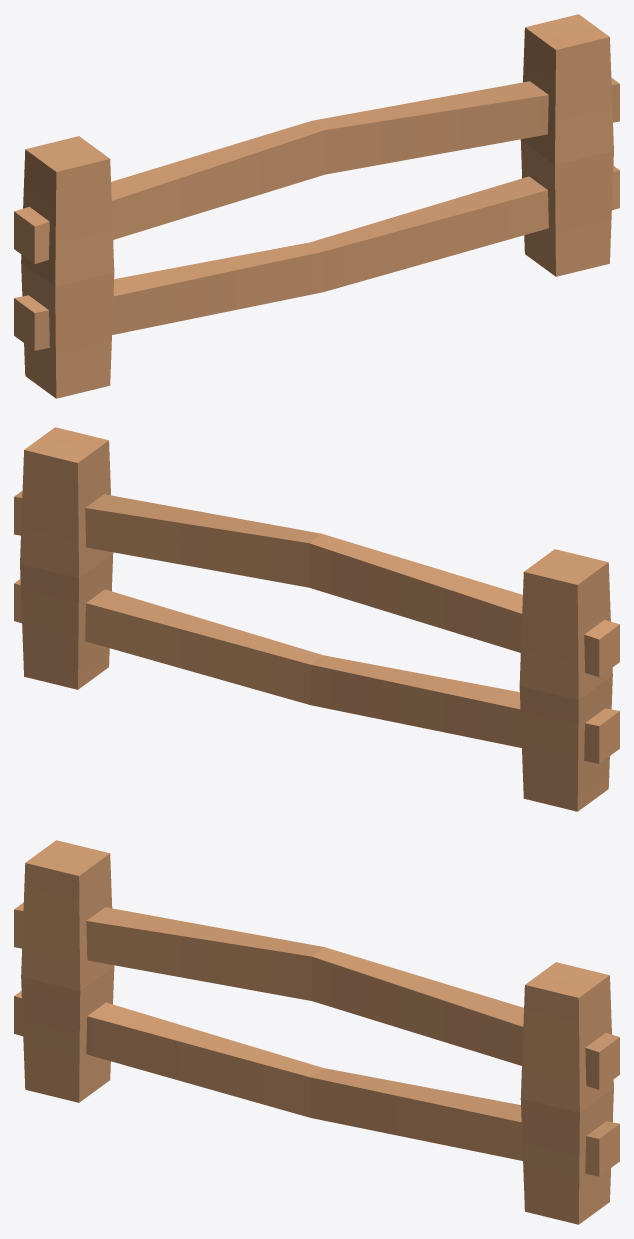
Rendered from Fence.fbx.
3 views of the same model, one above another, from view 1: azimuth 30°, elevation 25°; view 2: azimuth 150°, elevation 25°; view 3: azimuth 330°, elevation 25° (orthographic).
Visible parts, largest first — view 1: Fence; view 2: Fence; view 3: Fence.
Boxes of the visible parts, bbox=[...] form: Fence: bbox=[14, 14, 619, 398]; Fence: bbox=[14, 427, 619, 811]; Fence: bbox=[14, 840, 619, 1224].
Bounding box in the file's own units: 140 × 51.93 × 14.17.
1 material, 1 textured.
